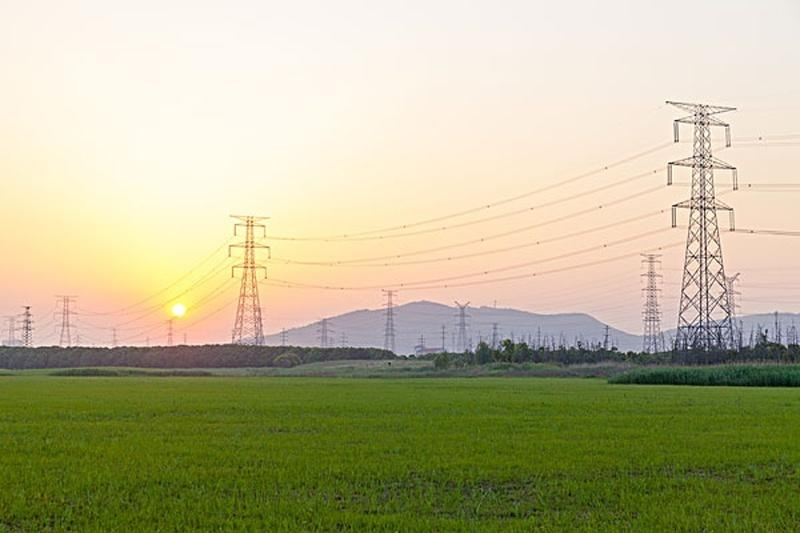power_tower: (652, 81, 752, 367), (223, 205, 292, 339)
